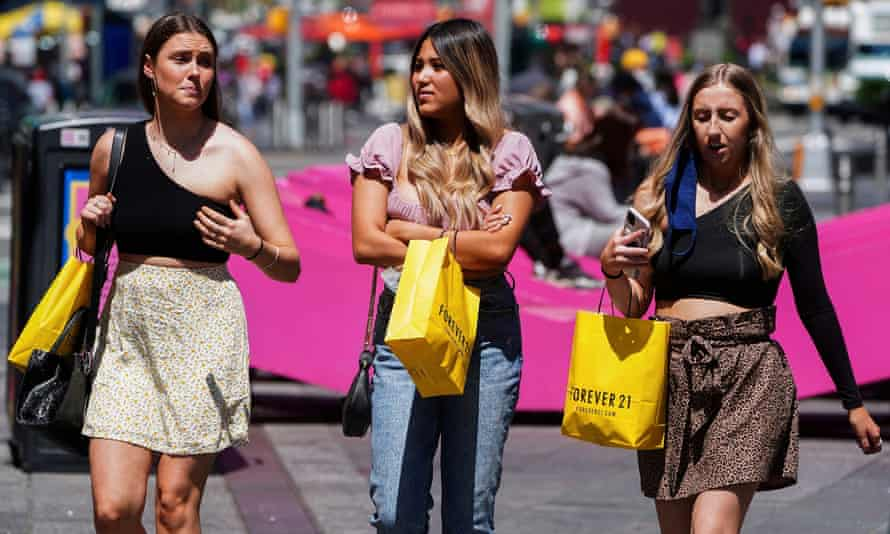with_incorrect_mask: (672, 95, 750, 204)
without_mask: (409, 45, 462, 114), (164, 41, 214, 112)
